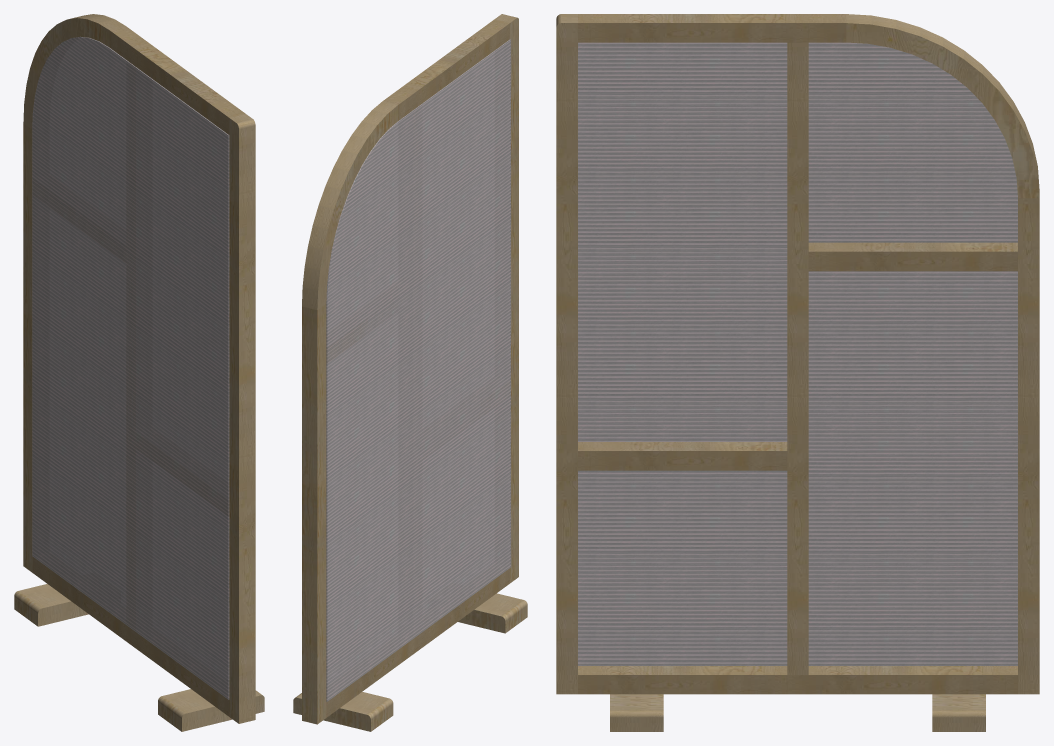
The model's file is paraban-veronica.glb.
3 renders of one model, left to right at view 1: azimuth 30°, elevation 25°; view 2: azimuth 150°, elevation 25°; view 3: azimuth 270°, elevation 25°, orthographic. The views are drawn at different scales.
Bounding box in the file's own units: 0.2 × 1.42 × 0.9.
3 materials, 3 textured.
